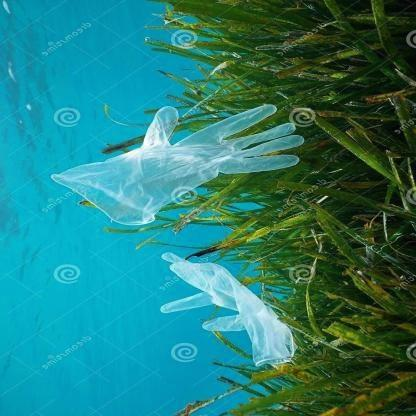glove: (48, 101, 308, 235), (158, 247, 302, 372)
